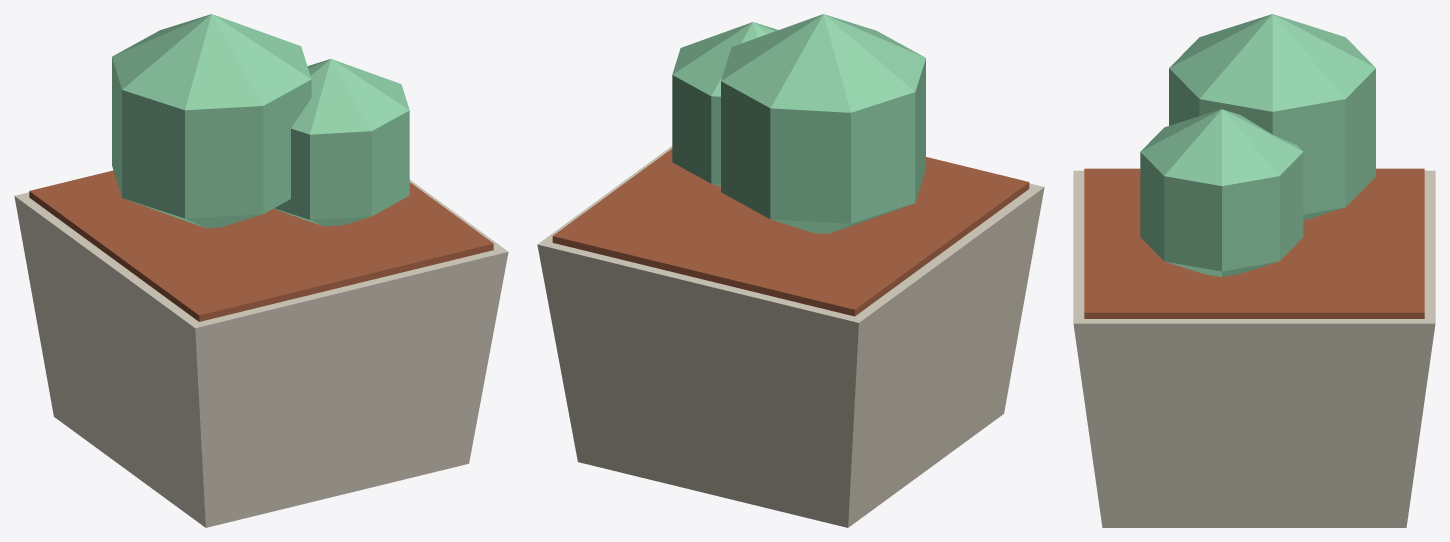
File: planter.glb
3 views of the same model, side by side, from view 1: azimuth 30°, elevation 25°; view 2: azimuth 150°, elevation 25°; view 3: azimuth 270°, elevation 25° (orthographic). The views are drawn at different scales.
Parts seen in each view (by area): view 1: planter_tub, planter_shrubA, planter_soil, planter_shrubB; view 2: planter_tub, planter_shrubA, planter_soil, planter_shrubB; view 3: planter_tub, planter_soil, planter_shrubA, planter_shrubB.
Boxes of the visible parts, <box> form: planter_tub: <box>14,179,508,527</box>; planter_shrubA: <box>112,14,311,228</box>; planter_soil: <box>29,170,493,321</box>; planter_shrubB: <box>274,59,409,226</box>; planter_tub: <box>537,146,1044,527</box>; planter_shrubA: <box>721,14,925,233</box>; planter_soil: <box>552,149,1029,316</box>; planter_shrubB: <box>672,22,778,186</box>; planter_tub: <box>1073,170,1435,527</box>; planter_soil: <box>1084,168,1424,318</box>; planter_shrubA: <box>1169,14,1375,220</box>; planter_shrubB: <box>1140,109,1303,276</box>.
Bounding box in the file's own units: 1 × 1.31 × 1.
